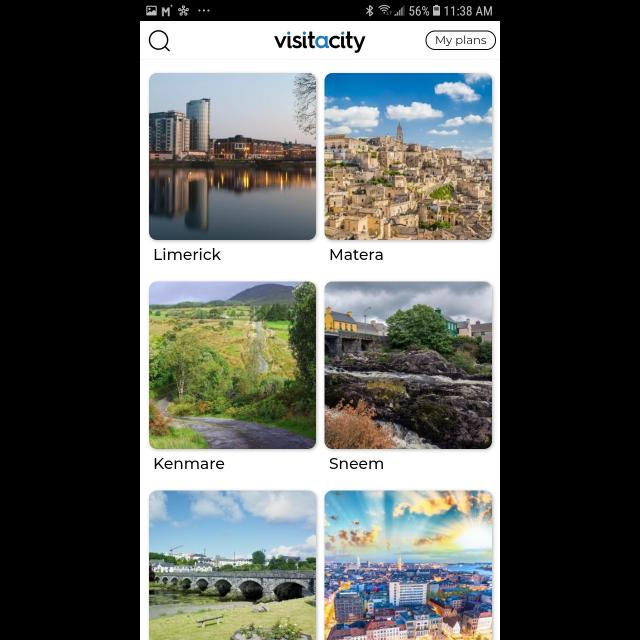icon: (149, 30, 171, 52)
image: (324, 282, 492, 450), (150, 282, 316, 450), (326, 74, 492, 240), (150, 74, 316, 240), (324, 490, 492, 640), (150, 490, 316, 640), (274, 31, 366, 53)
text: (155, 458, 225, 470), (154, 248, 222, 260), (329, 458, 383, 470), (331, 250, 383, 260)
textbutton: (426, 31, 496, 51)
uppertaskbar: (140, 1, 500, 22)
